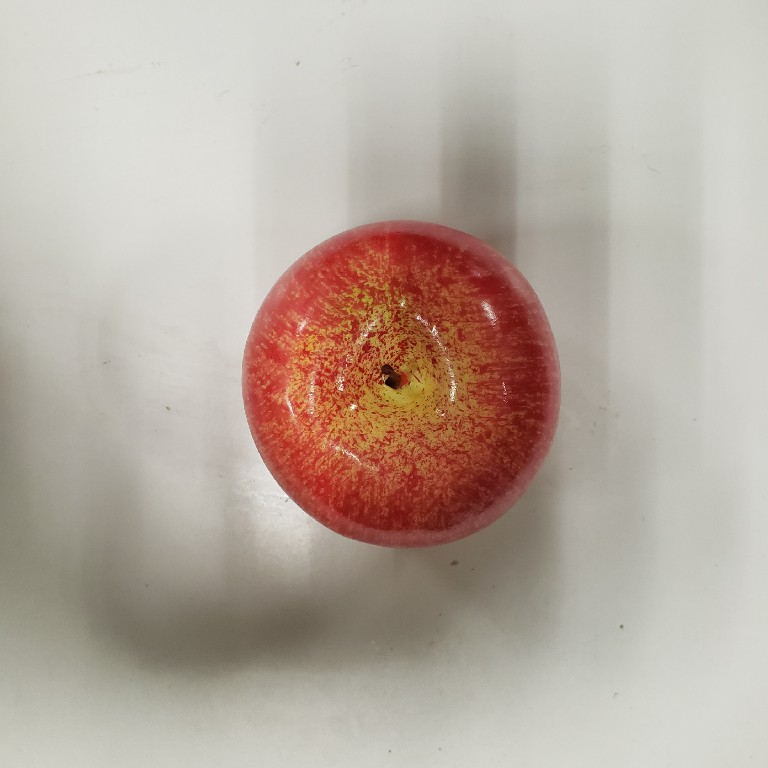fruit_apple: (234, 213, 567, 557)
